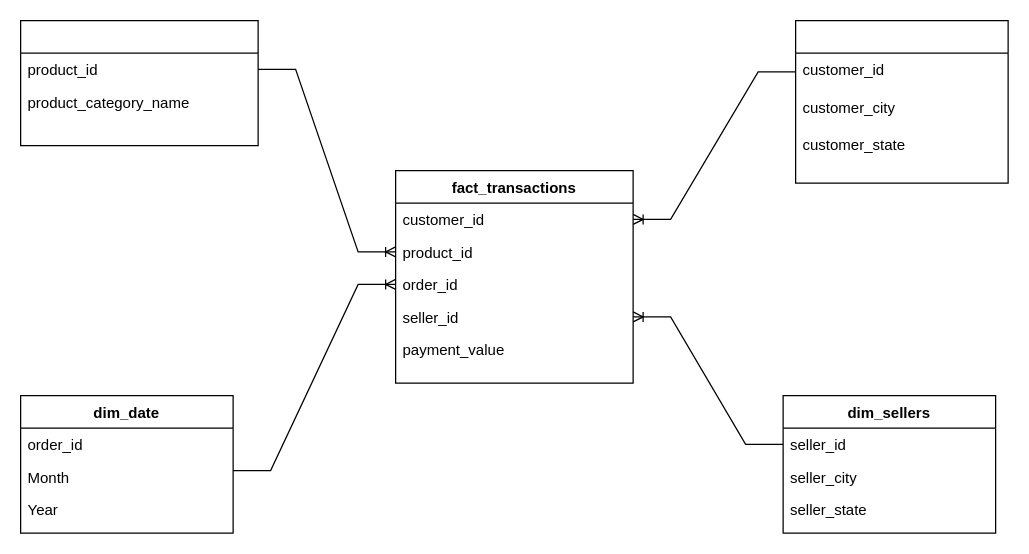
Some shapes in this 1029 by 554 pixel diagram are drawn without their labels. Here are the shapes that lost their labels. From the top down, the box of each, then its label:
(19, 19, 258, 146): dim_products
(794, 19, 1008, 183): dim_customers
